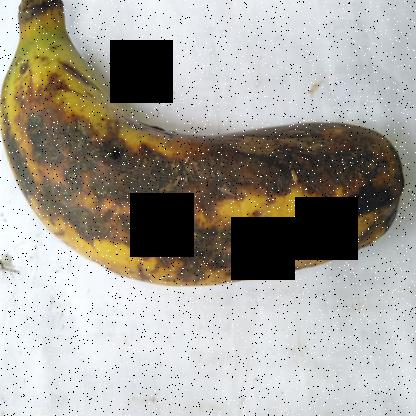rotten: (1, 0, 415, 307)
